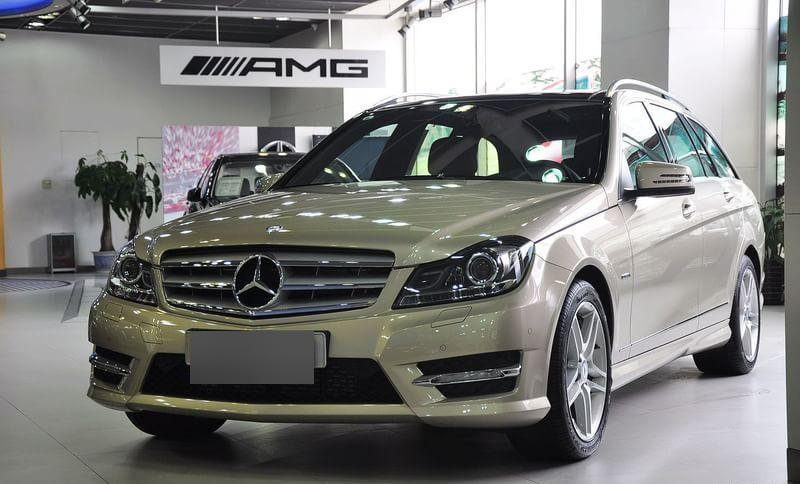Wagon: (84, 77, 767, 462)
